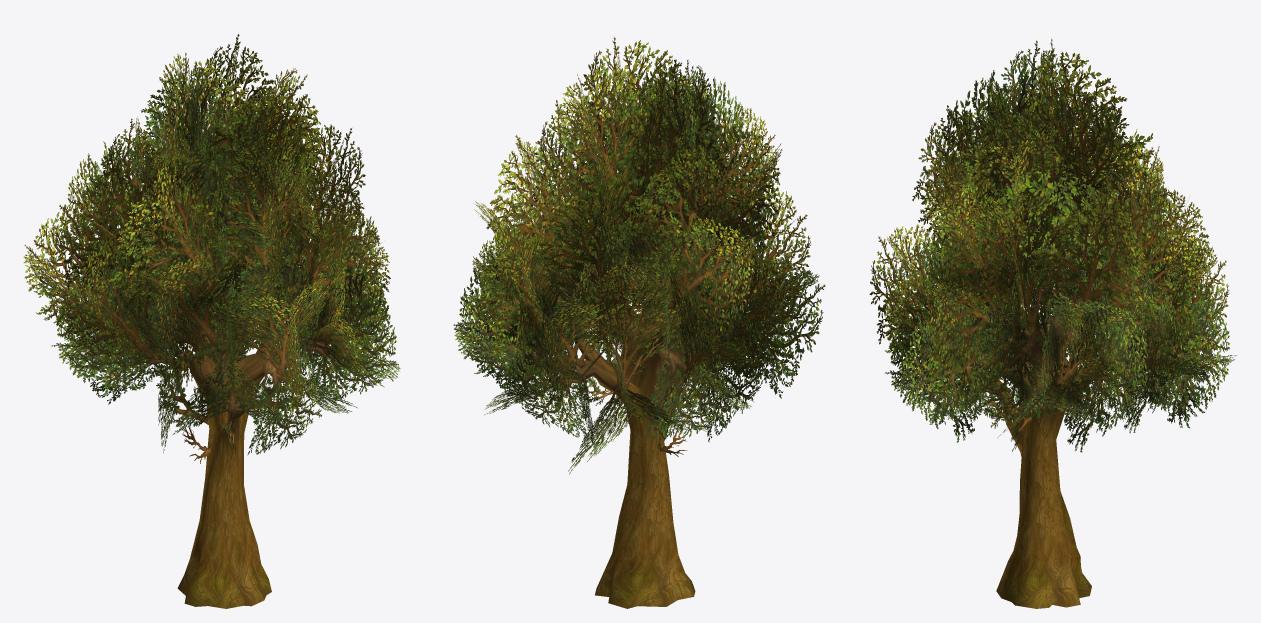
The model's file is arbol4.obj.
3 views of the same model, side by side, from view 1: azimuth 30°, elevation 25°; view 2: azimuth 150°, elevation 25°; view 3: azimuth 270°, elevation 25° (orthographic).
Visible parts, largest first — view 1: arbol7:Geoset2; view 2: arbol7:Geoset2; view 3: arbol7:Geoset2.
Part boxes in pixels (<box>): arbol7:Geoset2: <box>23,34,400,608</box>; arbol7:Geoset2: <box>453,37,825,608</box>; arbol7:Geoset2: <box>869,38,1236,608</box>.
Size of the model in its own units: 26.32 by 42.57 by 26.32.
Materials: 2 (2 with a texture image).
